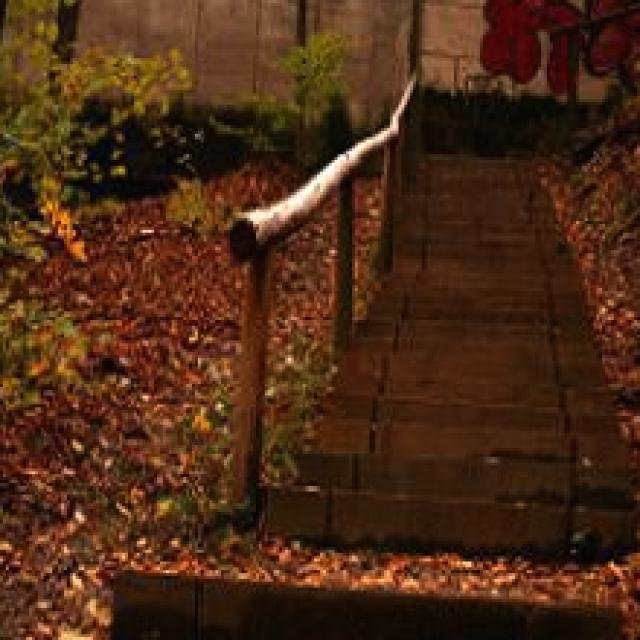upstair: (286, 286, 632, 554)
